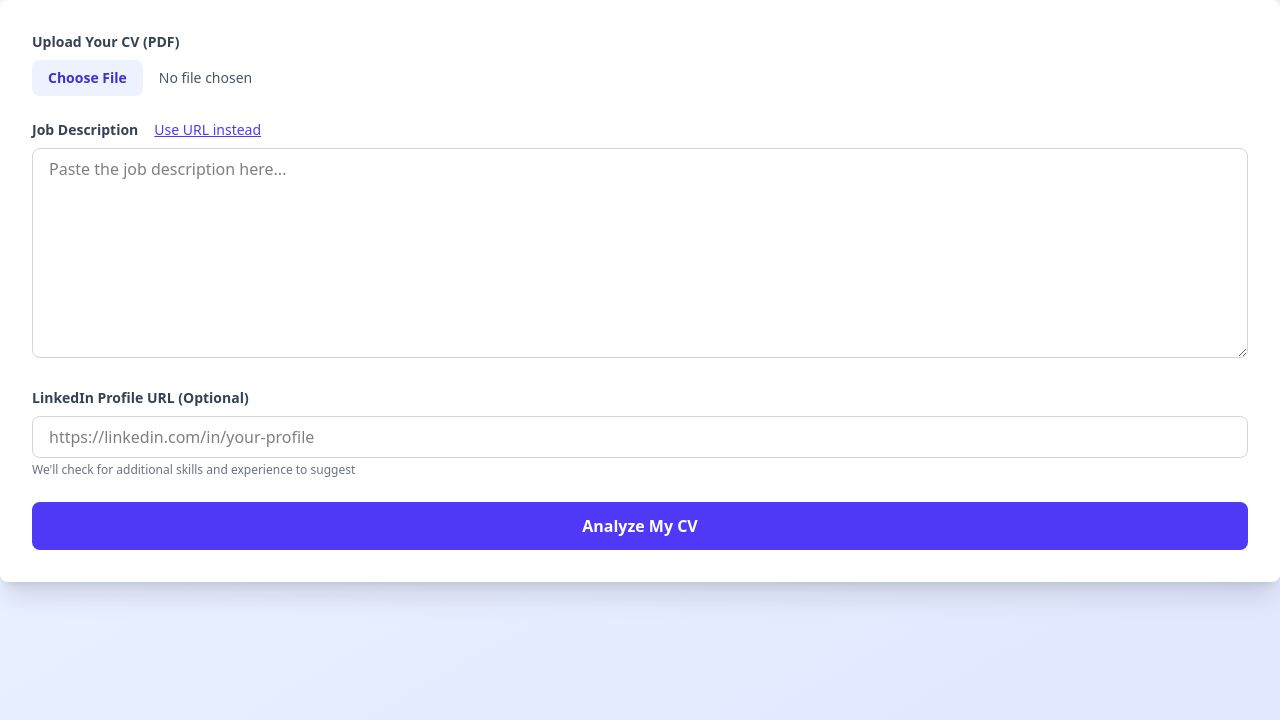
Scenario: UploadForm › shows error when submitting without CV
Click the button "Analyze My CV": coordinates (640, 526) [32,502,1248,550]
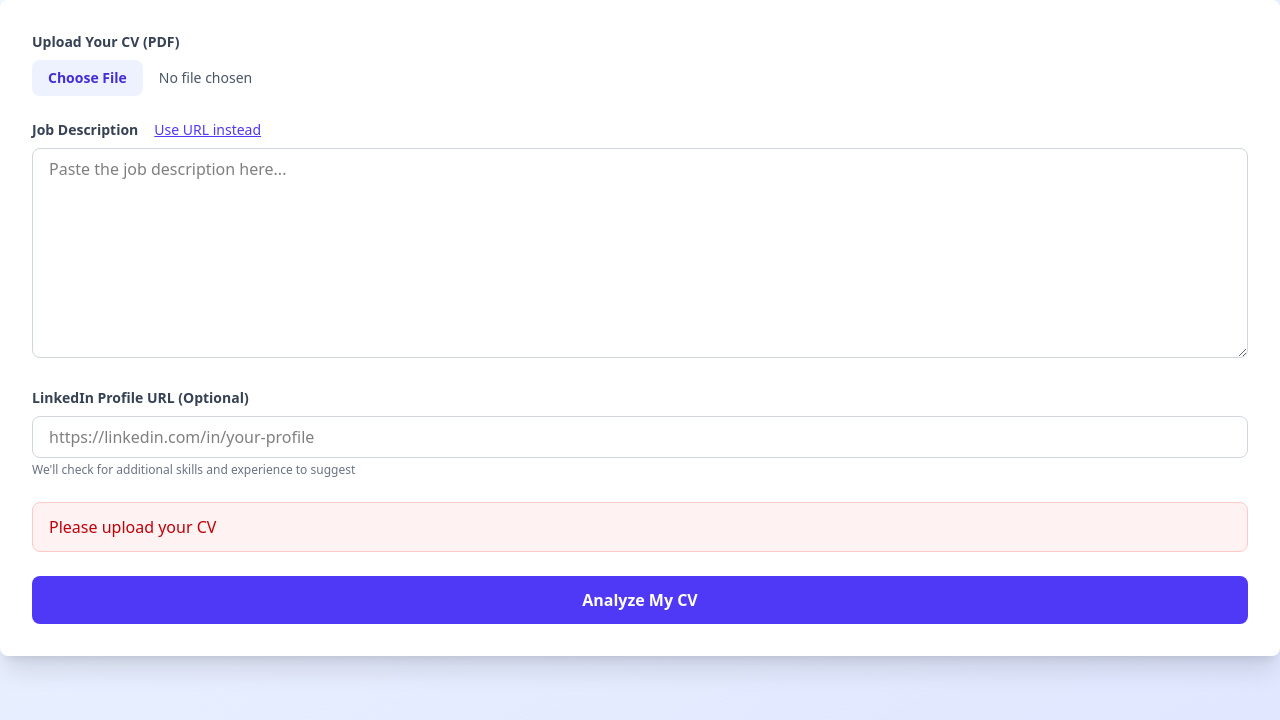
Expected: the text "Please upload your CV" is shown, [32,502,1248,552]
